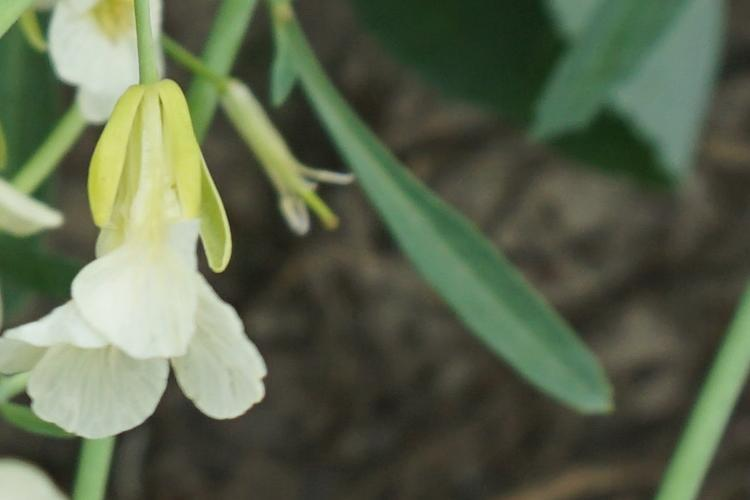white: (51, 89, 284, 448), (46, 7, 181, 114)
